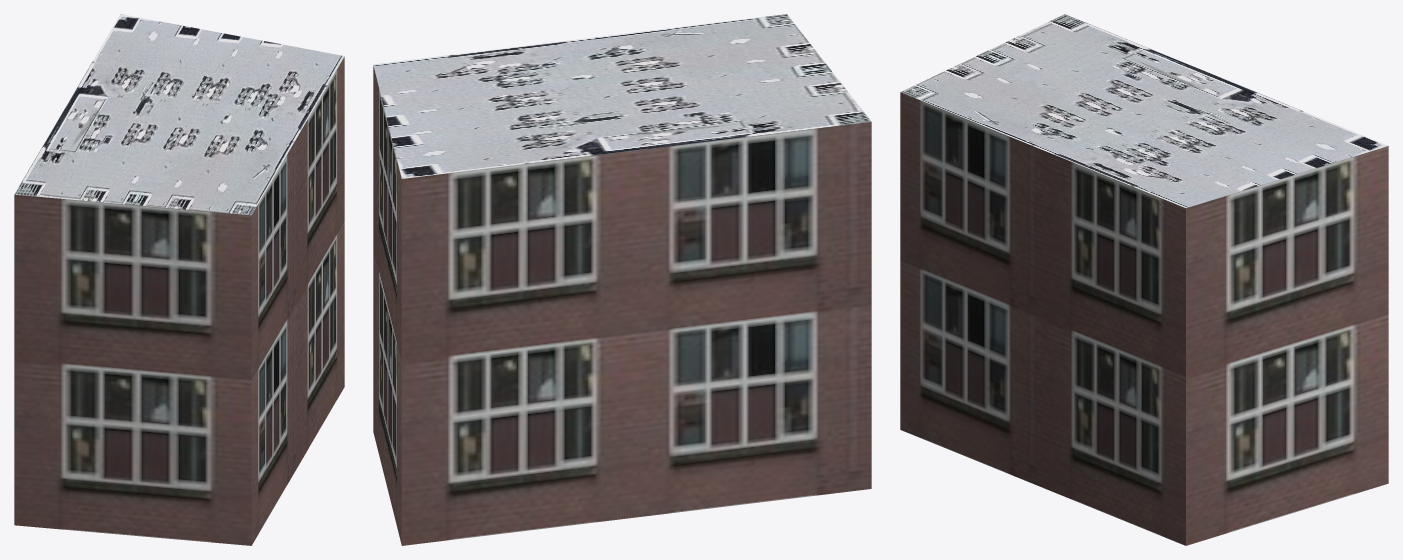
File: ResTex__1788.fbx
3 renders of one model, left to right at view 1: azimuth 30°, elevation 25°; view 2: azimuth 150°, elevation 25°; view 3: azimuth 270°, elevation 25°, orthographic. The views are drawn at different scales.
Parts seen in each view (by area): view 1: CityEngineMaterial_12_m, CityEngineMaterial_m; view 2: CityEngineMaterial_12_m, CityEngineMaterial_m; view 3: CityEngineMaterial_12_m, CityEngineMaterial_m.
Boxes of the visible parts, x1,y1,x2,y2 form: CityEngineMaterial_12_m: [14, 57, 344, 545]; CityEngineMaterial_m: [14, 14, 344, 215]; CityEngineMaterial_12_m: [373, 66, 871, 545]; CityEngineMaterial_m: [373, 14, 871, 178]; CityEngineMaterial_12_m: [900, 92, 1388, 545]; CityEngineMaterial_m: [900, 14, 1387, 207].
Bounding box in the file's own units: 7.4 × 6 × 7.86.
2 materials, 2 textured.
